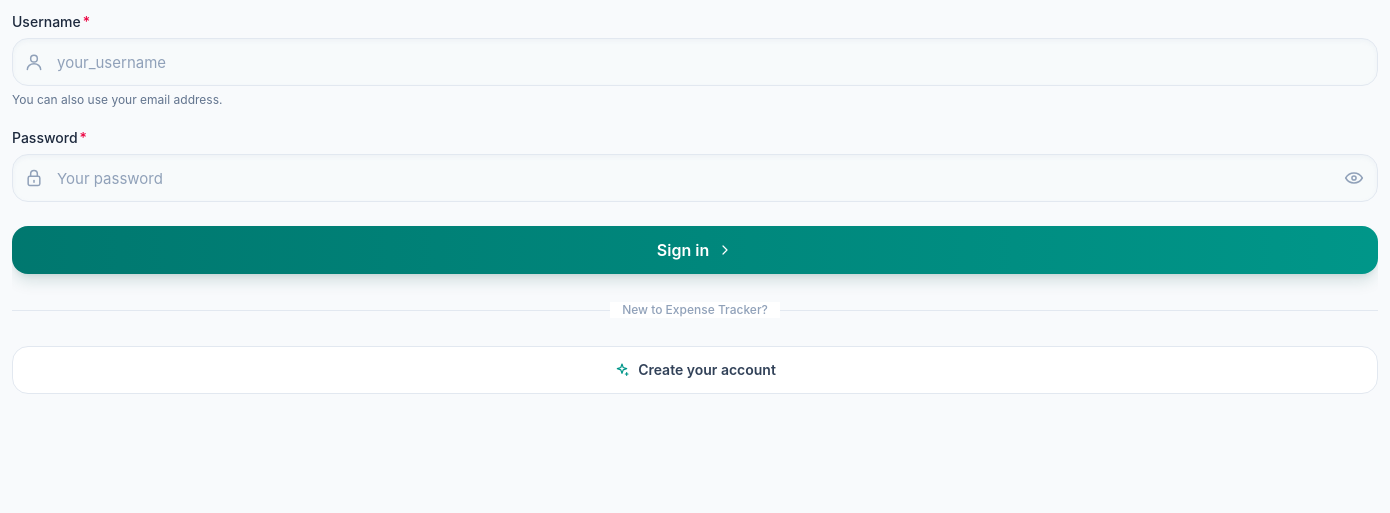
LoginForm › surfaces API errors without navigating
Type "user@example.com" into the field with placeholder "your_username" at x=695, y=62, box x1=12 y1=38 x2=1378 y2=86
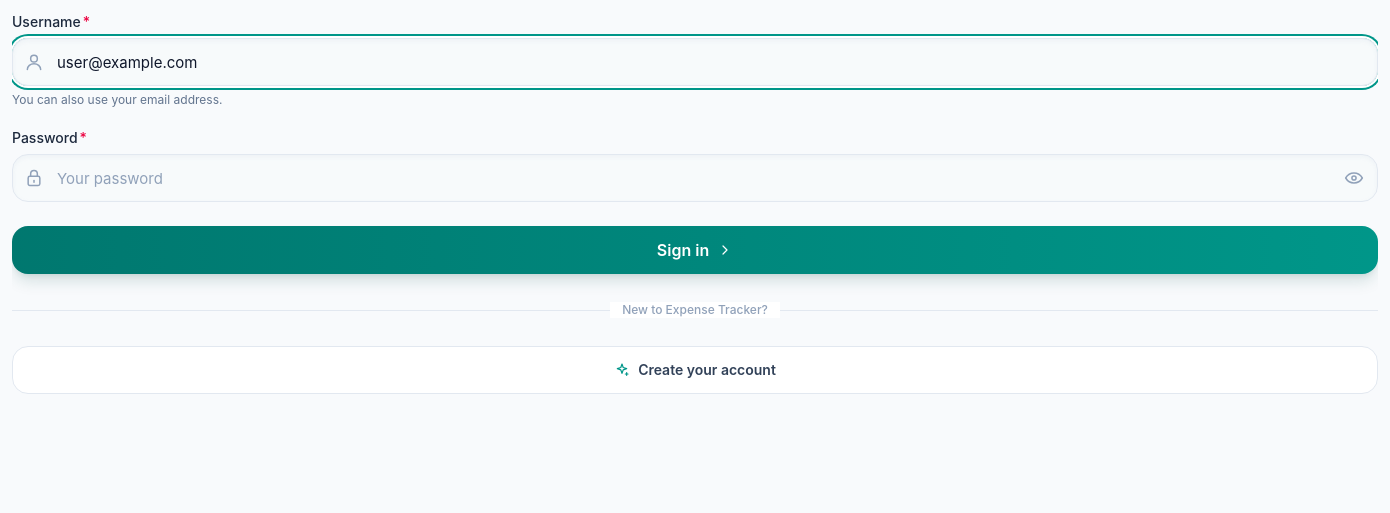
Type "WrongPassword1" into the password field with placeholder "Your password" at x=695, y=178, box x1=12 y1=154 x2=1378 y2=202
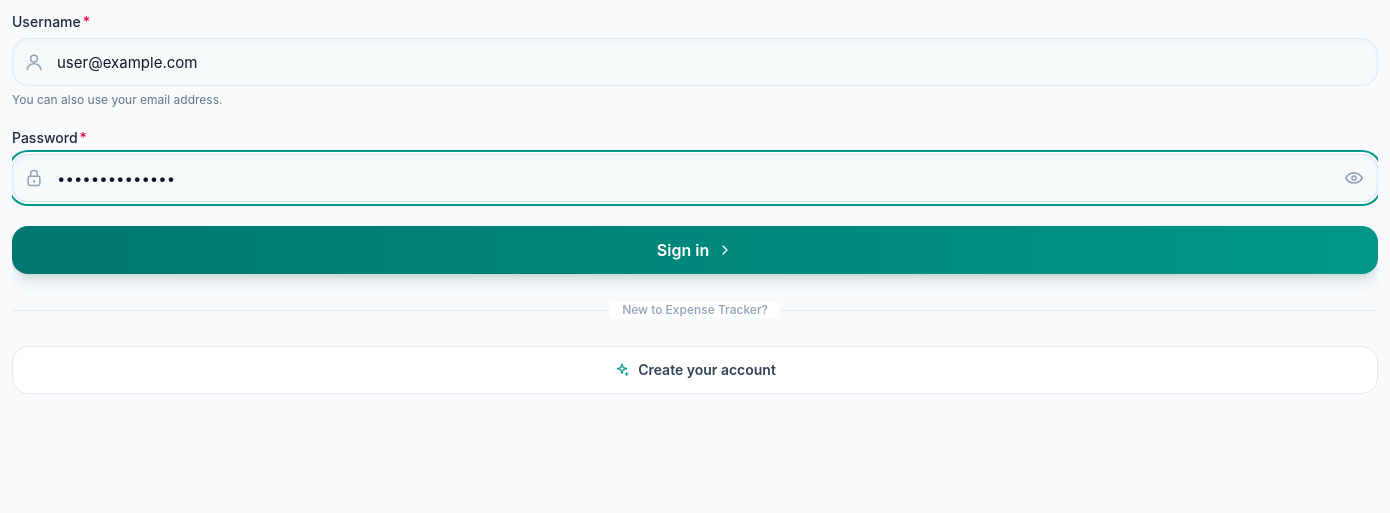
Click the button "Sign in" at x=695, y=250, box x1=12 y1=226 x2=1378 y2=274
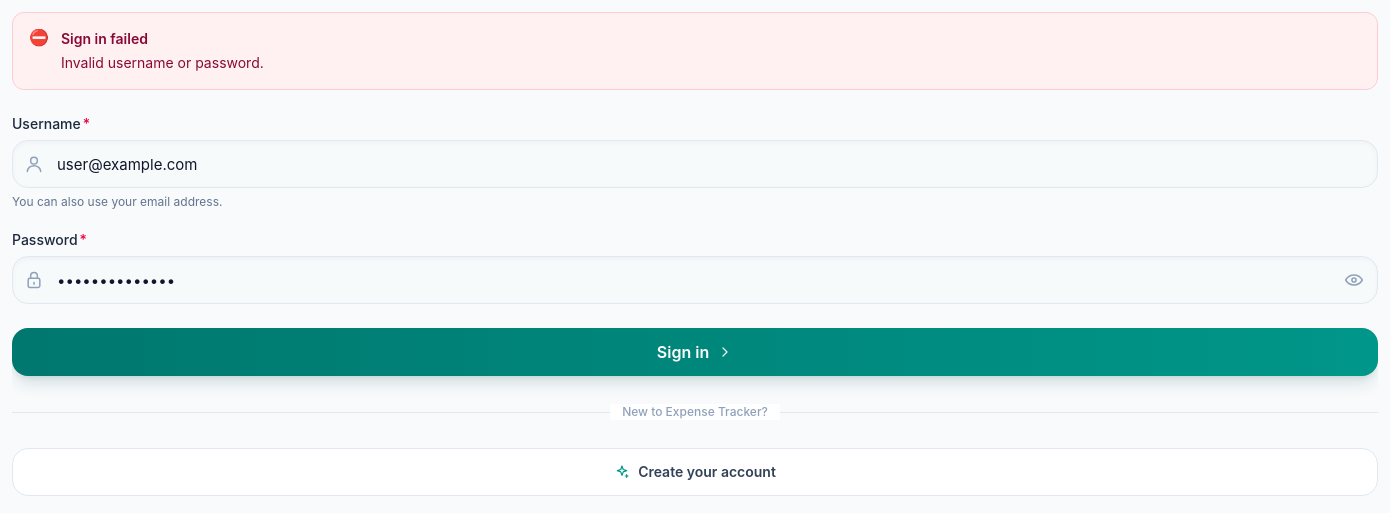
Expected: the text "Invalid username or password." is shown, x1=61 y1=54 x2=264 y2=71
